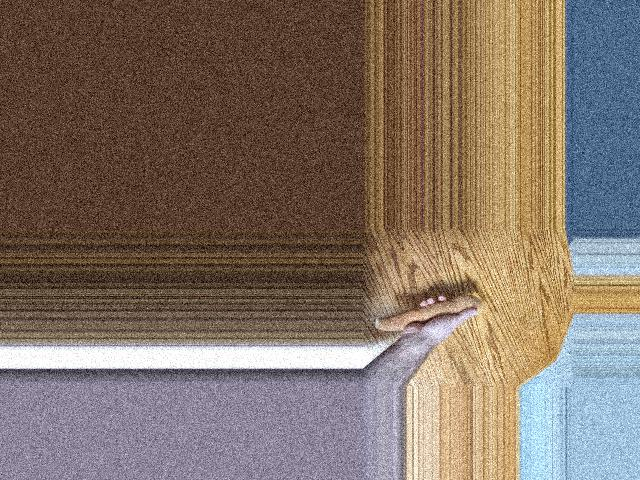sweet_potato: (374, 294, 480, 333)
